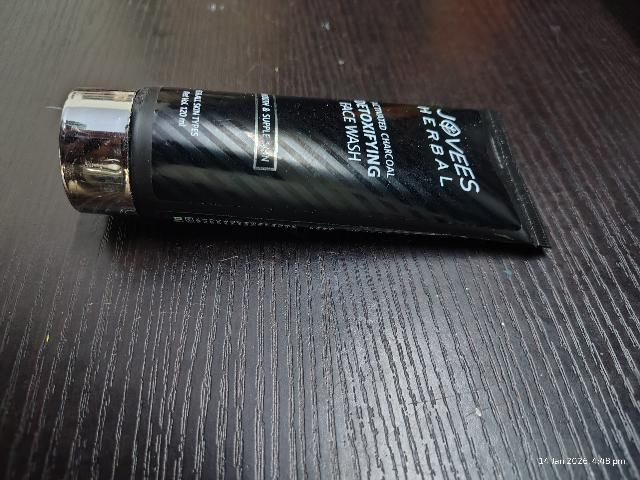jovees herbal: (61, 77, 523, 255)
